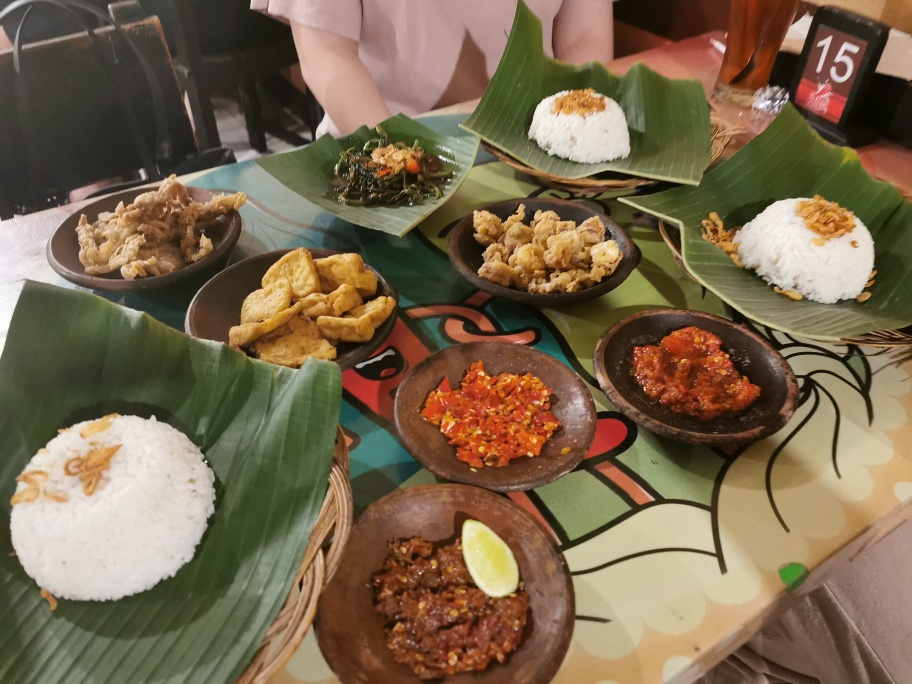nasi putih: (17, 412, 215, 598), (738, 190, 878, 304), (532, 85, 630, 163)
